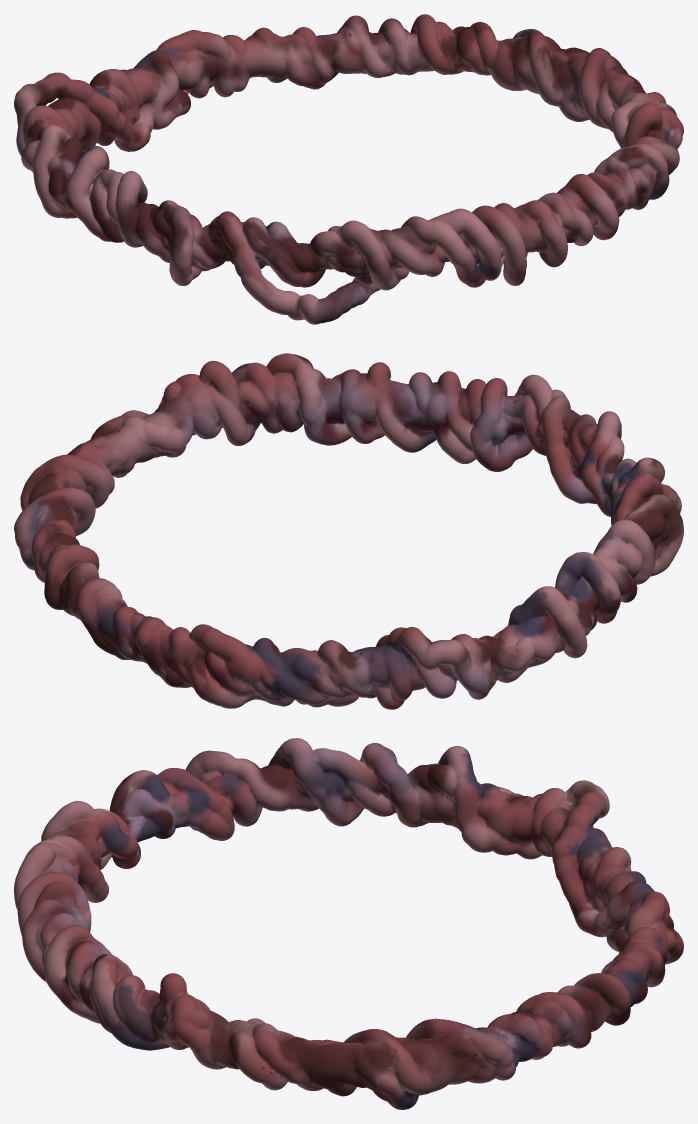
File: NUTRI.glb
3 views of the same model, one above another, from view 1: azimuth 30°, elevation 25°; view 2: azimuth 150°, elevation 25°; view 3: azimuth 270°, elevation 25° (orthographic). The views are drawn at different scales.
Parts seen in each view (by area): view 1: NUTRI; view 2: NUTRI; view 3: NUTRI.
Part boxes in pixels (box(x1,y1,x2,y2)): NUTRI: box(14, 14, 683, 324); NUTRI: box(14, 353, 683, 709); NUTRI: box(14, 738, 683, 1109).
Bounding box in the file's own units: 7525 × 1463 × 7388.
